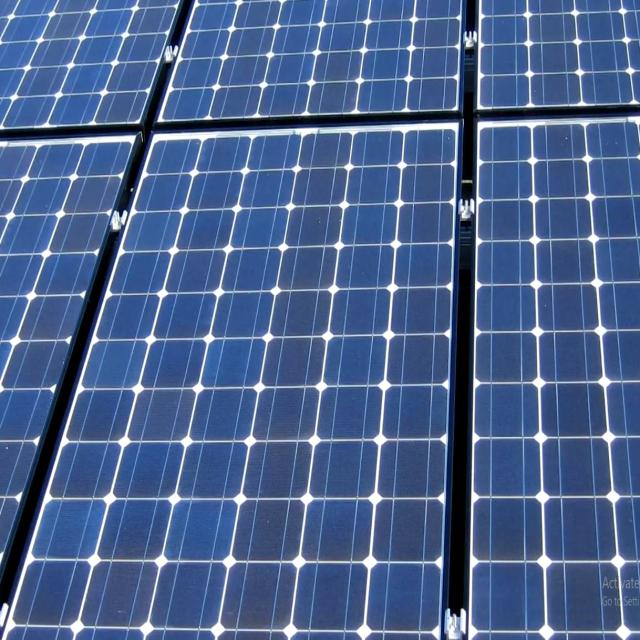crack: (244, 320, 342, 424), (348, 544, 449, 640), (174, 423, 266, 518), (306, 428, 405, 514), (463, 434, 567, 514), (68, 550, 164, 636), (462, 489, 558, 572), (286, 567, 389, 640), (361, 491, 450, 574), (152, 494, 248, 570), (456, 570, 574, 631), (234, 437, 332, 510), (321, 286, 424, 352), (223, 554, 301, 640), (255, 284, 348, 352), (186, 382, 268, 457), (233, 494, 311, 572), (190, 330, 282, 396), (373, 434, 447, 512), (467, 380, 548, 450), (474, 326, 551, 395), (49, 438, 128, 504), (386, 286, 464, 349), (220, 203, 298, 266), (165, 204, 248, 259), (240, 497, 305, 566), (284, 204, 360, 256), (123, 214, 186, 255)
